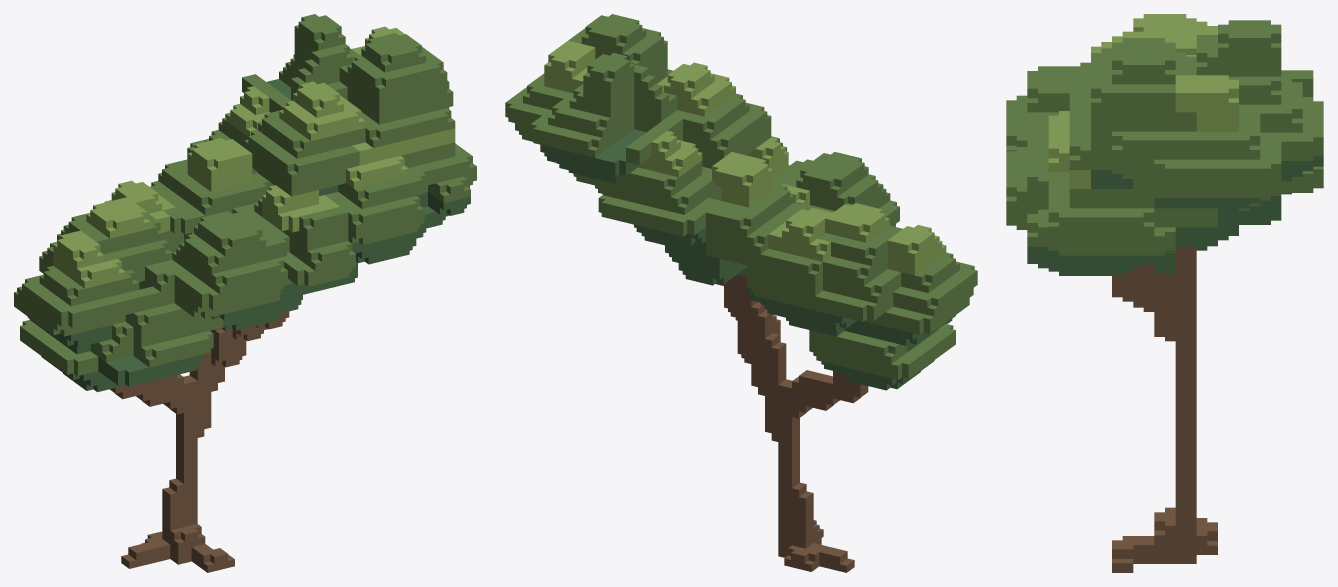
The model's file is hearthvale_tree_wind_low.obj.
The picture shows the model from 3 angles, left to right: view 1: azimuth 30°, elevation 25°; view 2: azimuth 150°, elevation 25°; view 3: azimuth 270°, elevation 25°; orthographic projection. The views are drawn at different scales.
Visible parts, largest first — view 1: palette_2, palette_4, palette_1, palette_3; view 2: palette_2, palette_4, palette_1, palette_3; view 3: palette_2, palette_1, palette_3, palette_4.
Part boxes in pixels (x1,y1,x2,y2): palette_2: [14, 14, 476, 375]; palette_4: [53, 26, 455, 288]; palette_1: [110, 295, 302, 572]; palette_3: [27, 79, 470, 392]; palette_2: [505, 14, 977, 379]; palette_4: [544, 40, 946, 275]; palette_1: [715, 274, 868, 572]; palette_3: [540, 129, 955, 390]; palette_2: [1006, 20, 1323, 255]; palette_1: [1112, 246, 1217, 572]; palette_3: [1027, 156, 1323, 275]; palette_4: [1048, 14, 1238, 188].
Size of the model in its own units: 3.75 by 4.12 by 1.88.
